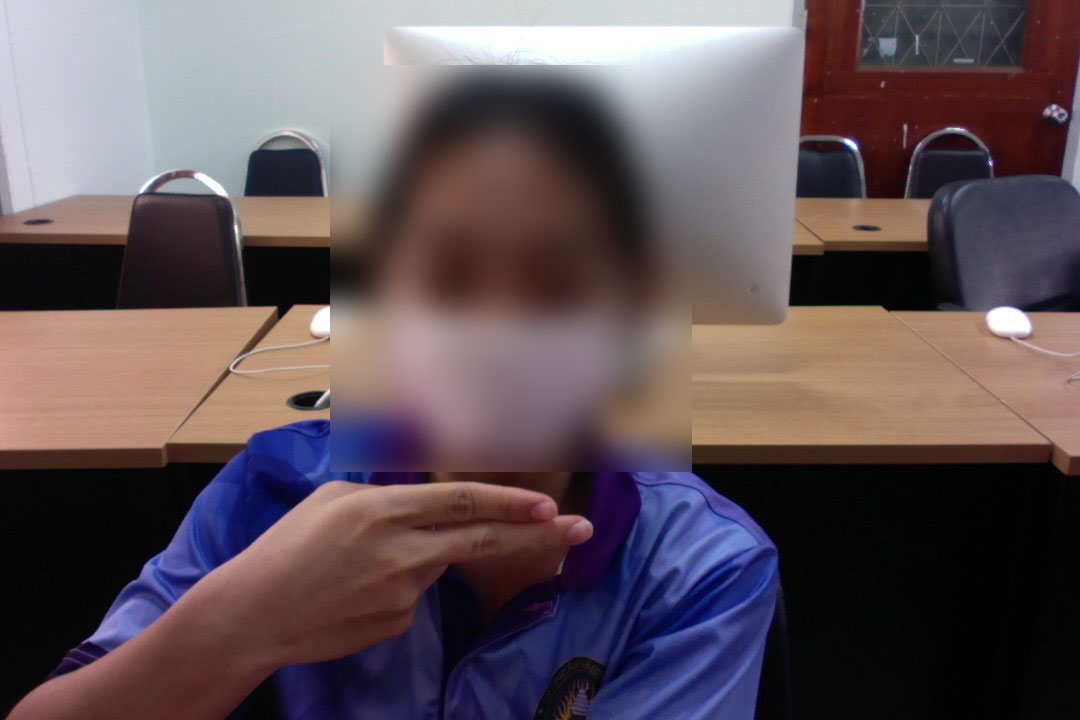hor: (264, 473, 599, 670)
